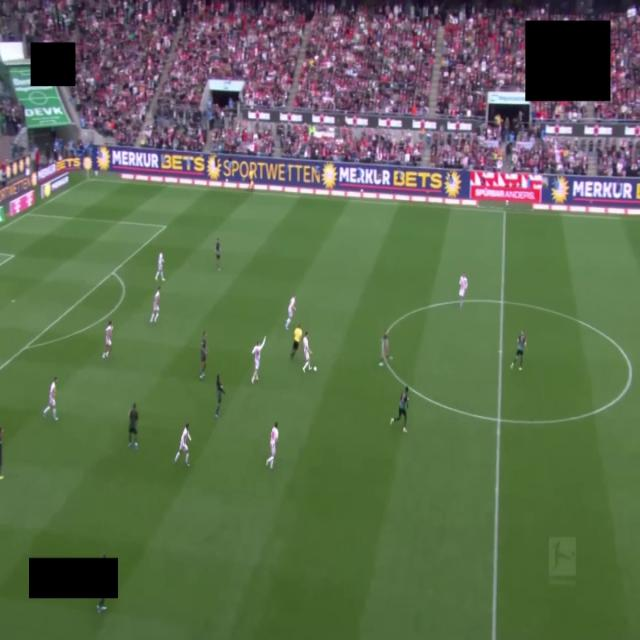ball: (313, 367, 316, 371)
player: (391, 387, 408, 432), (251, 336, 265, 383), (175, 424, 190, 466), (43, 377, 57, 420), (511, 330, 526, 370), (266, 422, 278, 469), (128, 403, 138, 449), (215, 375, 225, 418), (379, 333, 392, 366), (102, 320, 112, 358), (303, 332, 312, 371), (150, 288, 160, 323), (200, 332, 207, 380), (285, 296, 295, 329), (459, 272, 467, 308), (155, 252, 164, 281), (215, 238, 220, 271)
referee: (291, 325, 302, 359)
